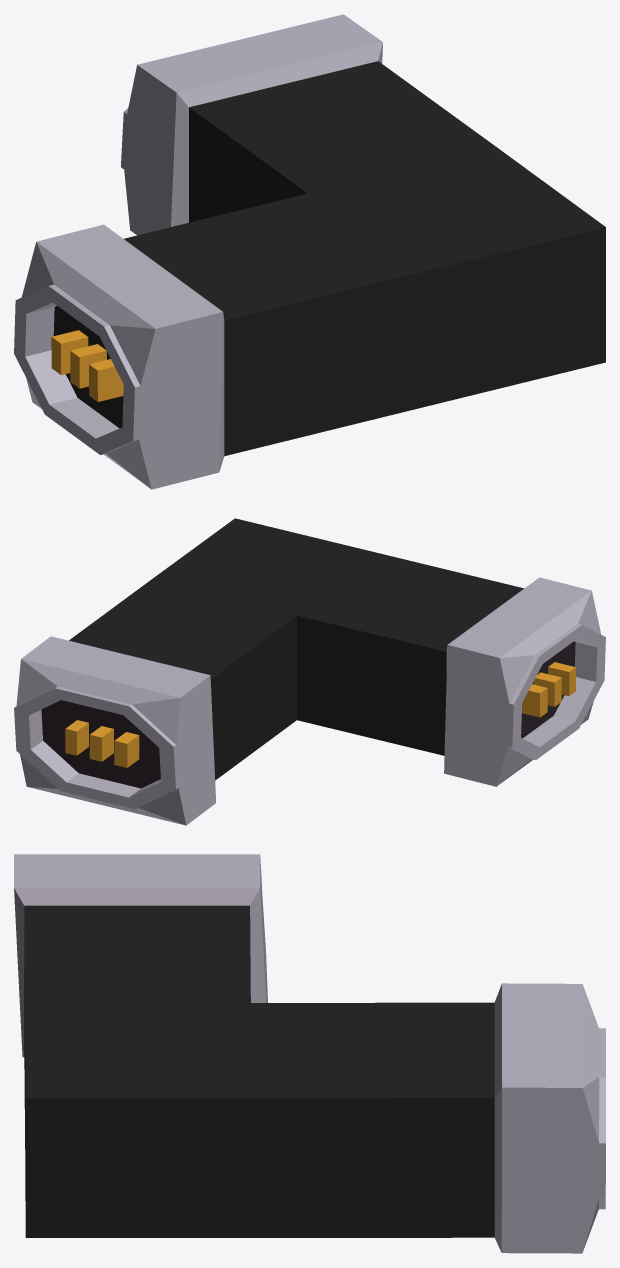
Rendered from cable L.fbx.
3 renders of one model, top to bottom at view 1: azimuth 30°, elevation 25°; view 2: azimuth 150°, elevation 25°; view 3: azimuth 270°, elevation 25°, orthographic. The views are drawn at different scales.
Parts seen in each view (by area): view 1: Cable L; view 2: Cable L; view 3: Cable L.
Part boxes in pixels (left/top/right/bottom): Cable L: left=14, top=14, right=605, bottom=489; Cable L: left=14, top=518, right=605, bottom=825; Cable L: left=14, top=854, right=605, bottom=1253.
Bounding box in the file's own units: 1.26 × 0.4081 × 1.29.
